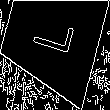L_W: (26, 19, 77, 63)
